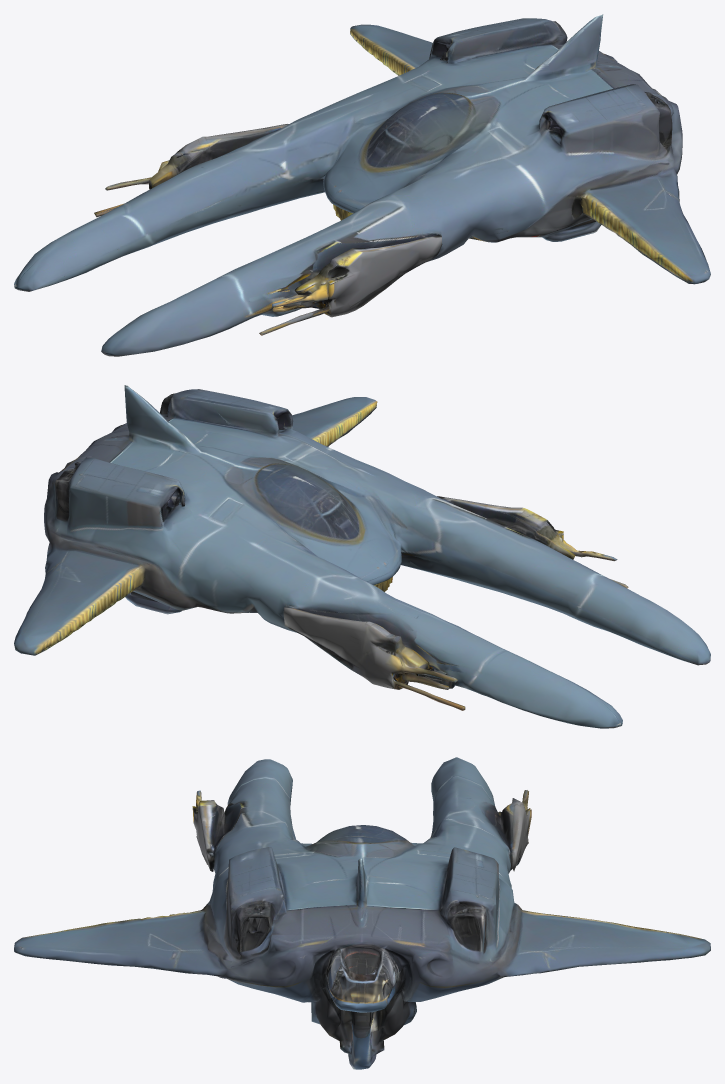
The model's file is spaceship.glb.
3 views of the same model, one above another, from view 1: azimuth 30°, elevation 25°; view 2: azimuth 150°, elevation 25°; view 3: azimuth 270°, elevation 25° (orthographic).
Bounding box in the file's own units: 1.99 × 0.682 × 1.99.
1 material, 1 textured.
